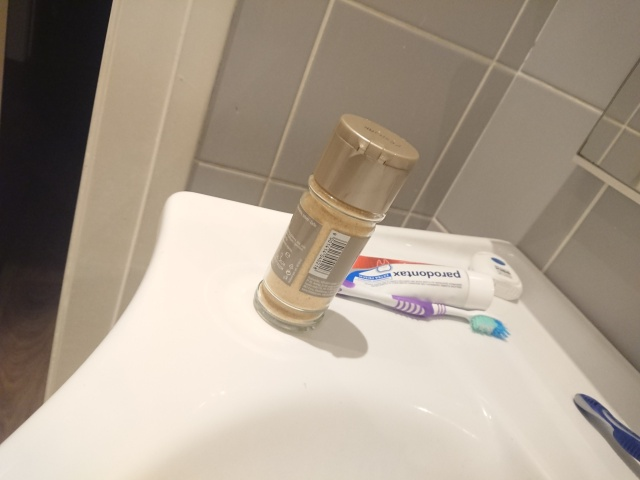Kotanyi Garlic Granules 70g: (249, 111, 420, 336)
